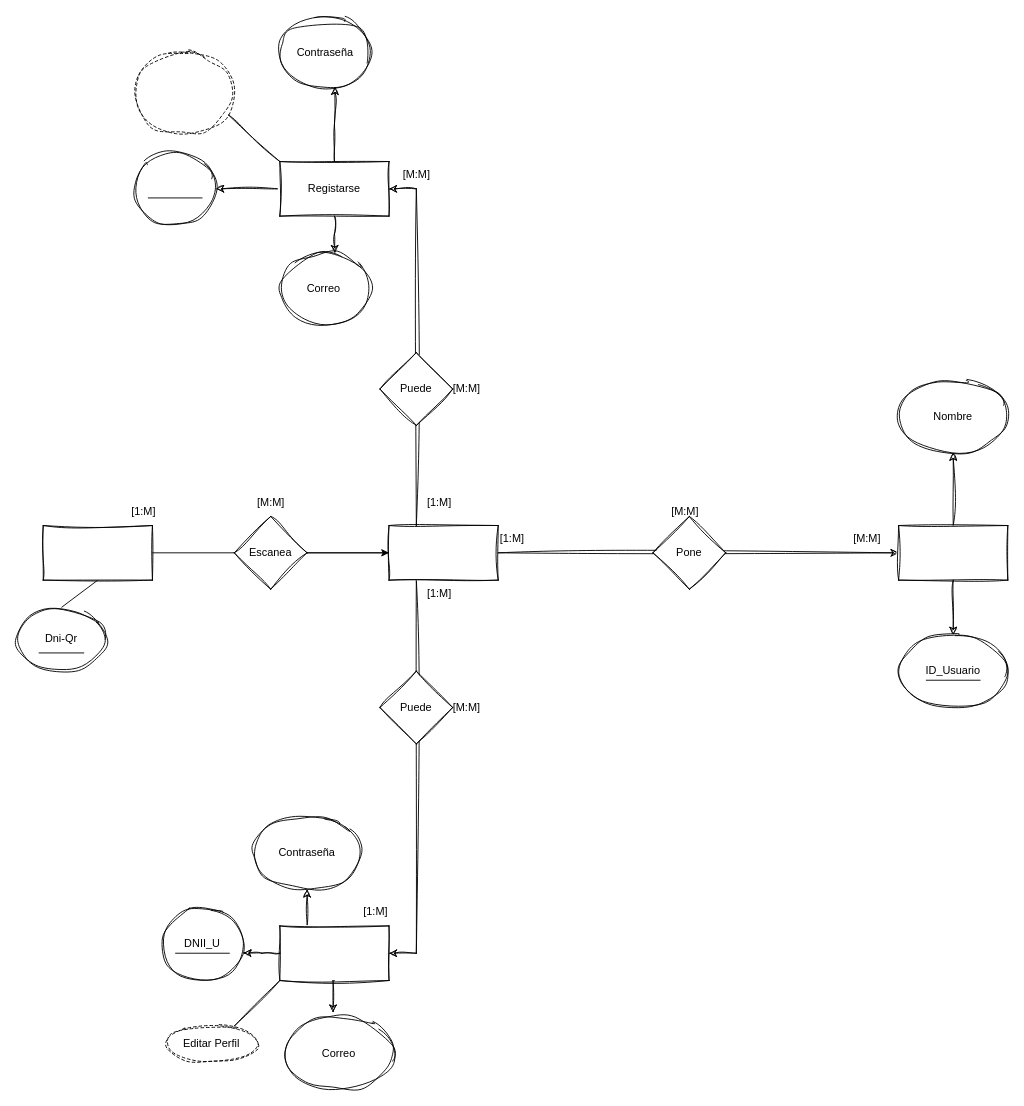
Some shapes in this 1024 by 1106 pixel diagram are drawn without their labels. The centre of each missing label's shape, as x and y in pixels:
"Aceptar Terminos Y Condiciones" goes at point 183,92.
"DNI-U" goes at point 174,188.
"Iniciar Sesion" goes at point 334,953.
"Musica" goes at point 953,552.
"Qr" goes at point 97,552.
"Usuario" goes at point 443,552.
